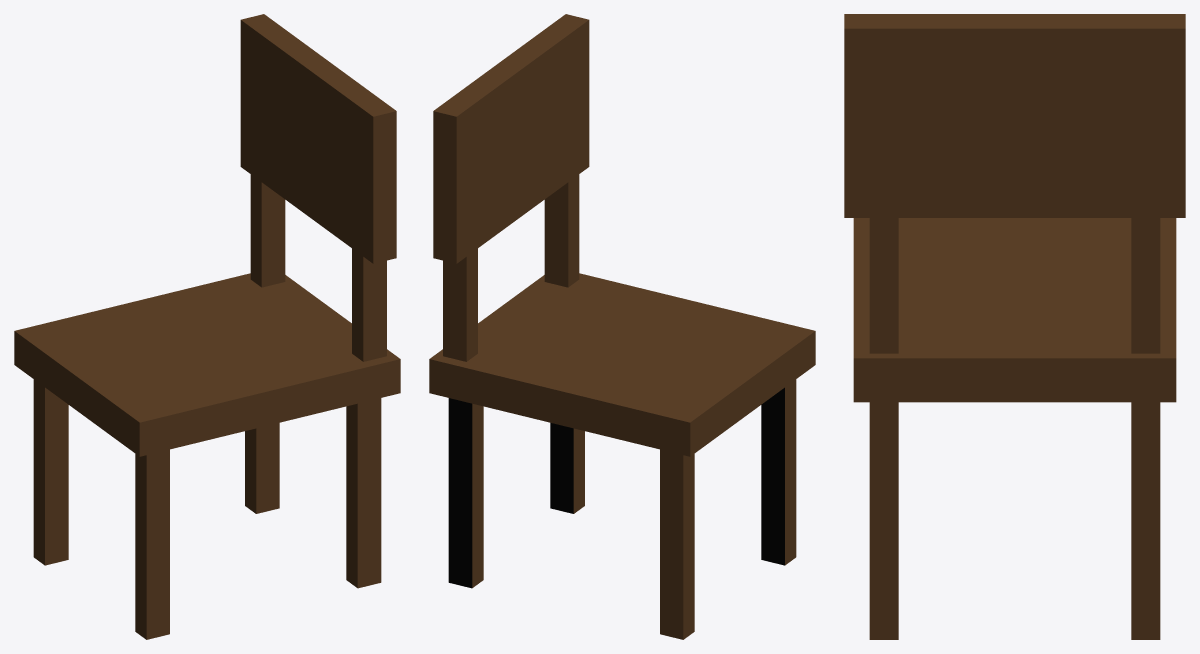
File: SM_Chair.fbx
3 views of the same model, side by side, from view 1: azimuth 30°, elevation 25°; view 2: azimuth 150°, elevation 25°; view 3: azimuth 270°, elevation 25° (orthographic). The views are drawn at different scales.
Visible parts, largest first — view 1: SM_Chair; view 2: SM_Chair; view 3: SM_Chair.
Boxes of the visible parts, x1,y1,x2,y2 form: SM_Chair: (14,14,400,639); SM_Chair: (429,14,815,639); SM_Chair: (844,14,1185,639).
Bounding box in the file's own units: 0.5819 × 1.02 × 0.5126.
